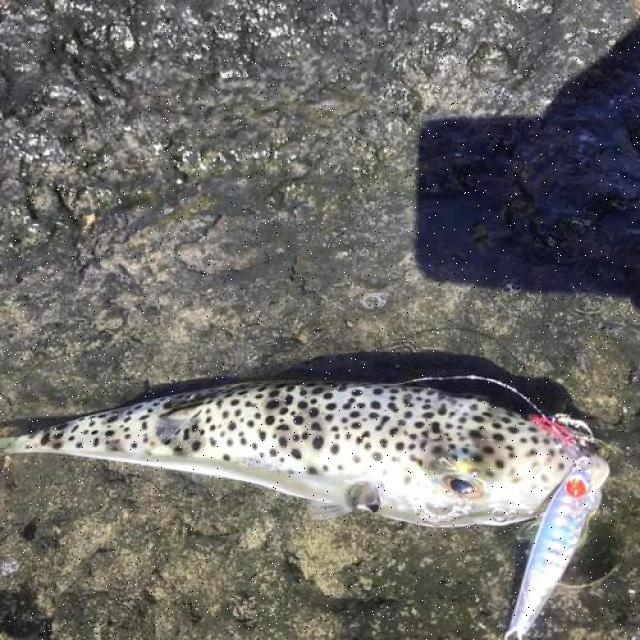Balik: (0, 382, 577, 526)
